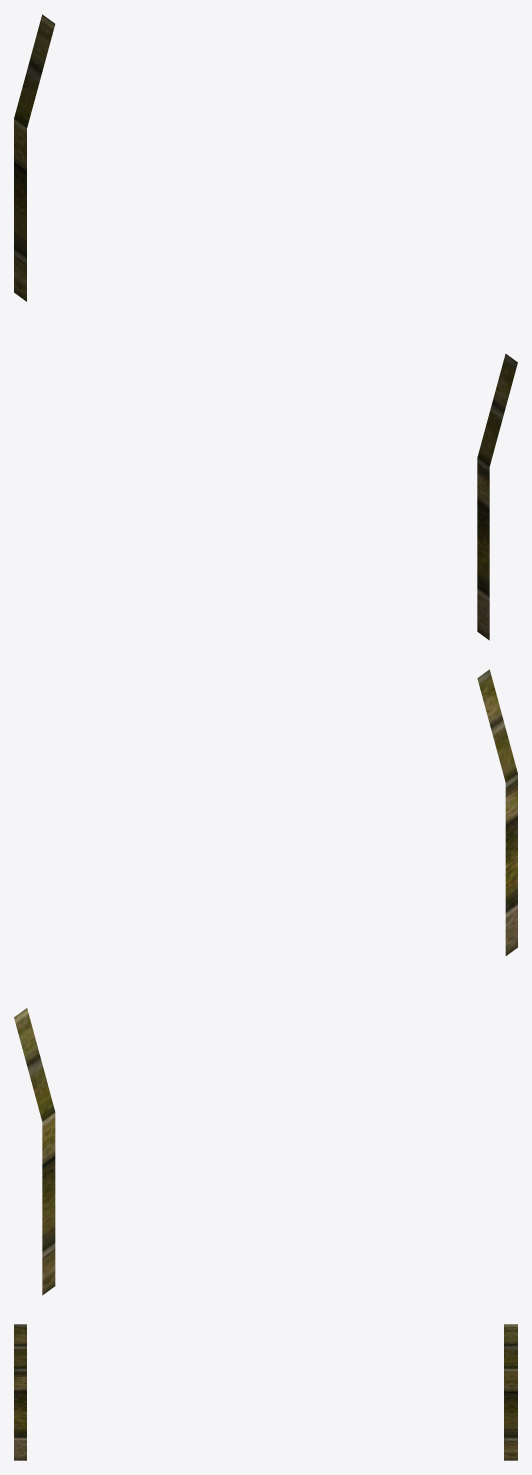
Rendered from OVERHILL_A_01_OBJECT194.fbx.
The picture shows the model from 3 angles, top to bottom: view 1: azimuth 30°, elevation 25°; view 2: azimuth 150°, elevation 25°; view 3: azimuth 270°, elevation 25°; orthographic projection. The views are drawn at different scales.
Visible parts, largest first — view 1: OVERHILL_A_01_OBJECT194; view 2: OVERHILL_A_01_OBJECT194; view 3: OVERHILL_A_01_OBJECT194.
Part boxes in pixels (x1,y1,x2,y2): OVERHILL_A_01_OBJECT194: [14, 14, 517, 640]; OVERHILL_A_01_OBJECT194: [14, 669, 517, 1295]; OVERHILL_A_01_OBJECT194: [14, 1324, 517, 1460].
Bounding box in the file's own units: 1348 × 12361 × 39284.
2 materials, 2 textured.
